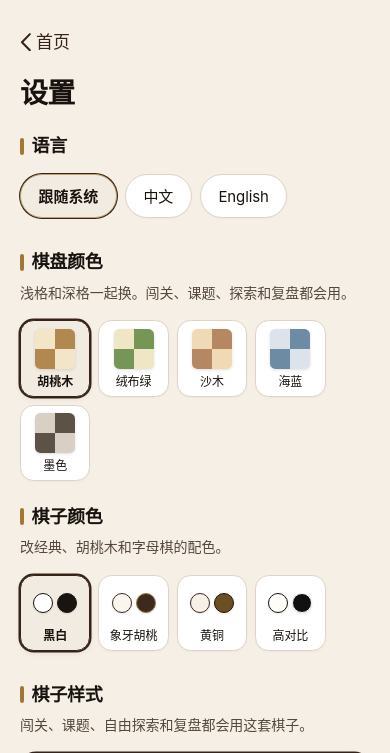
Test case: SettingsPage piece set › switches chrome to English and back
What coordinates should you click on to do the following:
click the button "English"
I would click on:
 (244, 196)
Its box is [200, 174, 288, 218].
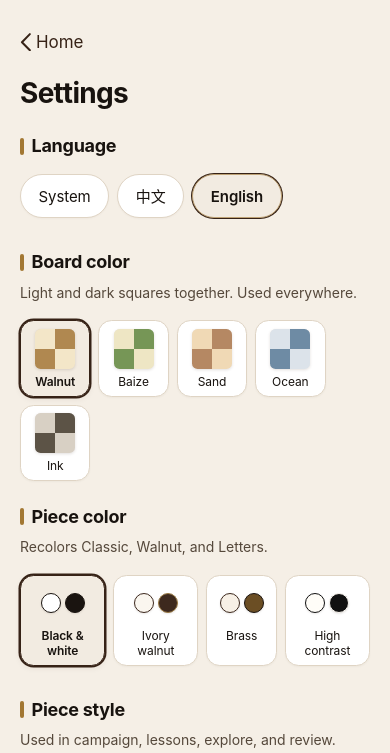
Check: the heading "Settings" is shown, box [20, 76, 128, 110]
What coordinates should you click on to do the following:
click the button "中文"
I would click on:
 (151, 196)
Its box is [117, 174, 184, 218].
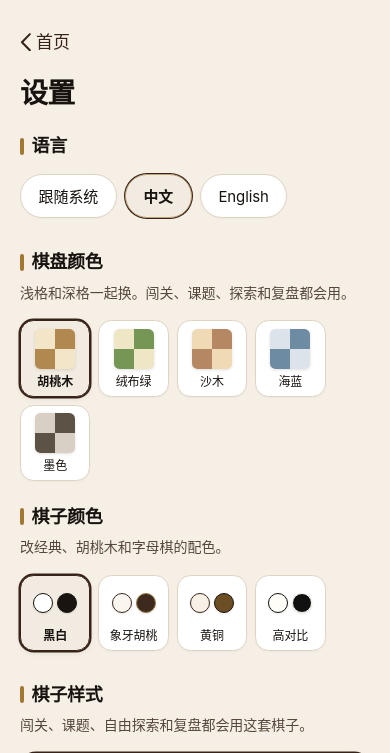
Check: the heading "设置" is shown, box [20, 76, 75, 110]
